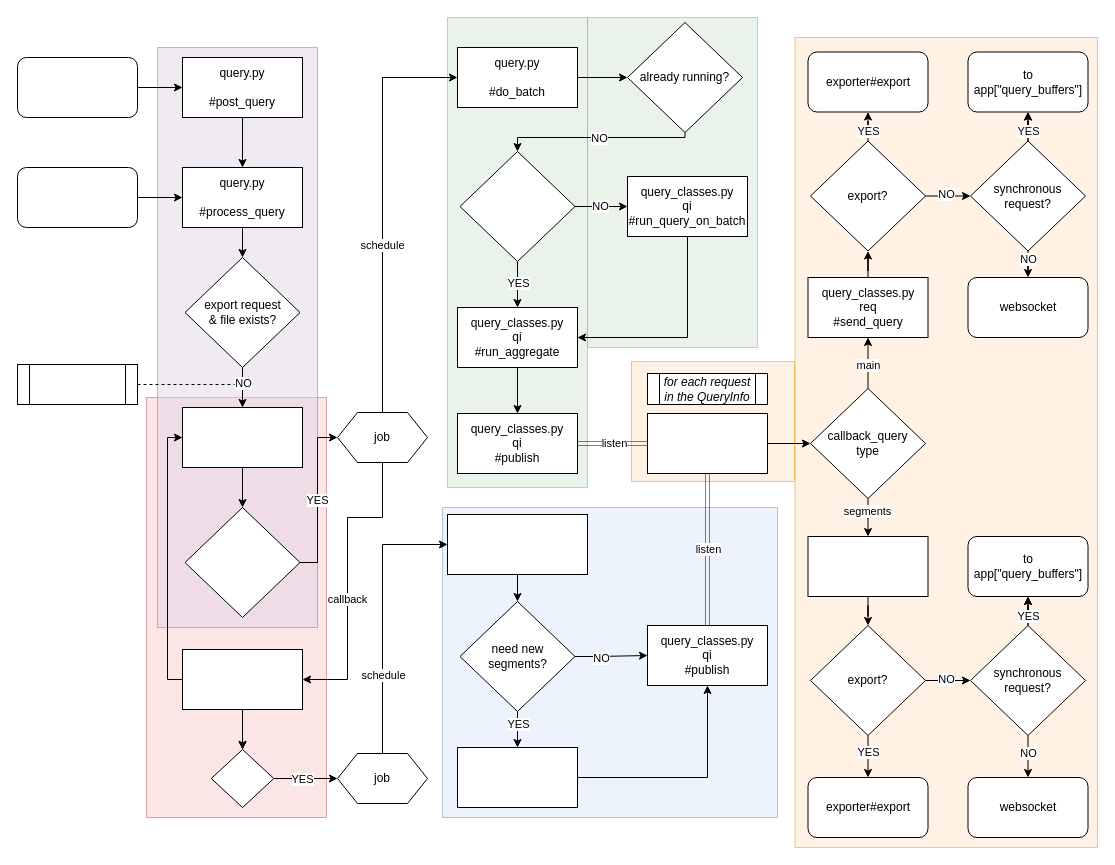
Some shapes in this 1115 by 865 pixel diagram are drawn without their labels. Each missing label, with the centre of its shape:
"add request to QueryInfo" goes at (77,384).
"batch query in cache?" goes at (517,206).
"HTTP POST /fcs_endpoint" goes at (77,197).
"HTTP POST /query" goes at (77,87).
"kwic?" goes at (242,778).
"next_batch?" goes at (242,562).
"query.py #batch_callback" goes at (242,679).
"query.py #do_segment_and_meta" goes at (517,544).
"query.py #schedule_next_batch" goes at (242,437).
"query_classes.py qi #query" goes at (517,777).
"query_classes.py req #respond" goes at (707,443).
"query_classes.py req #send_segments" goes at (867,566).
